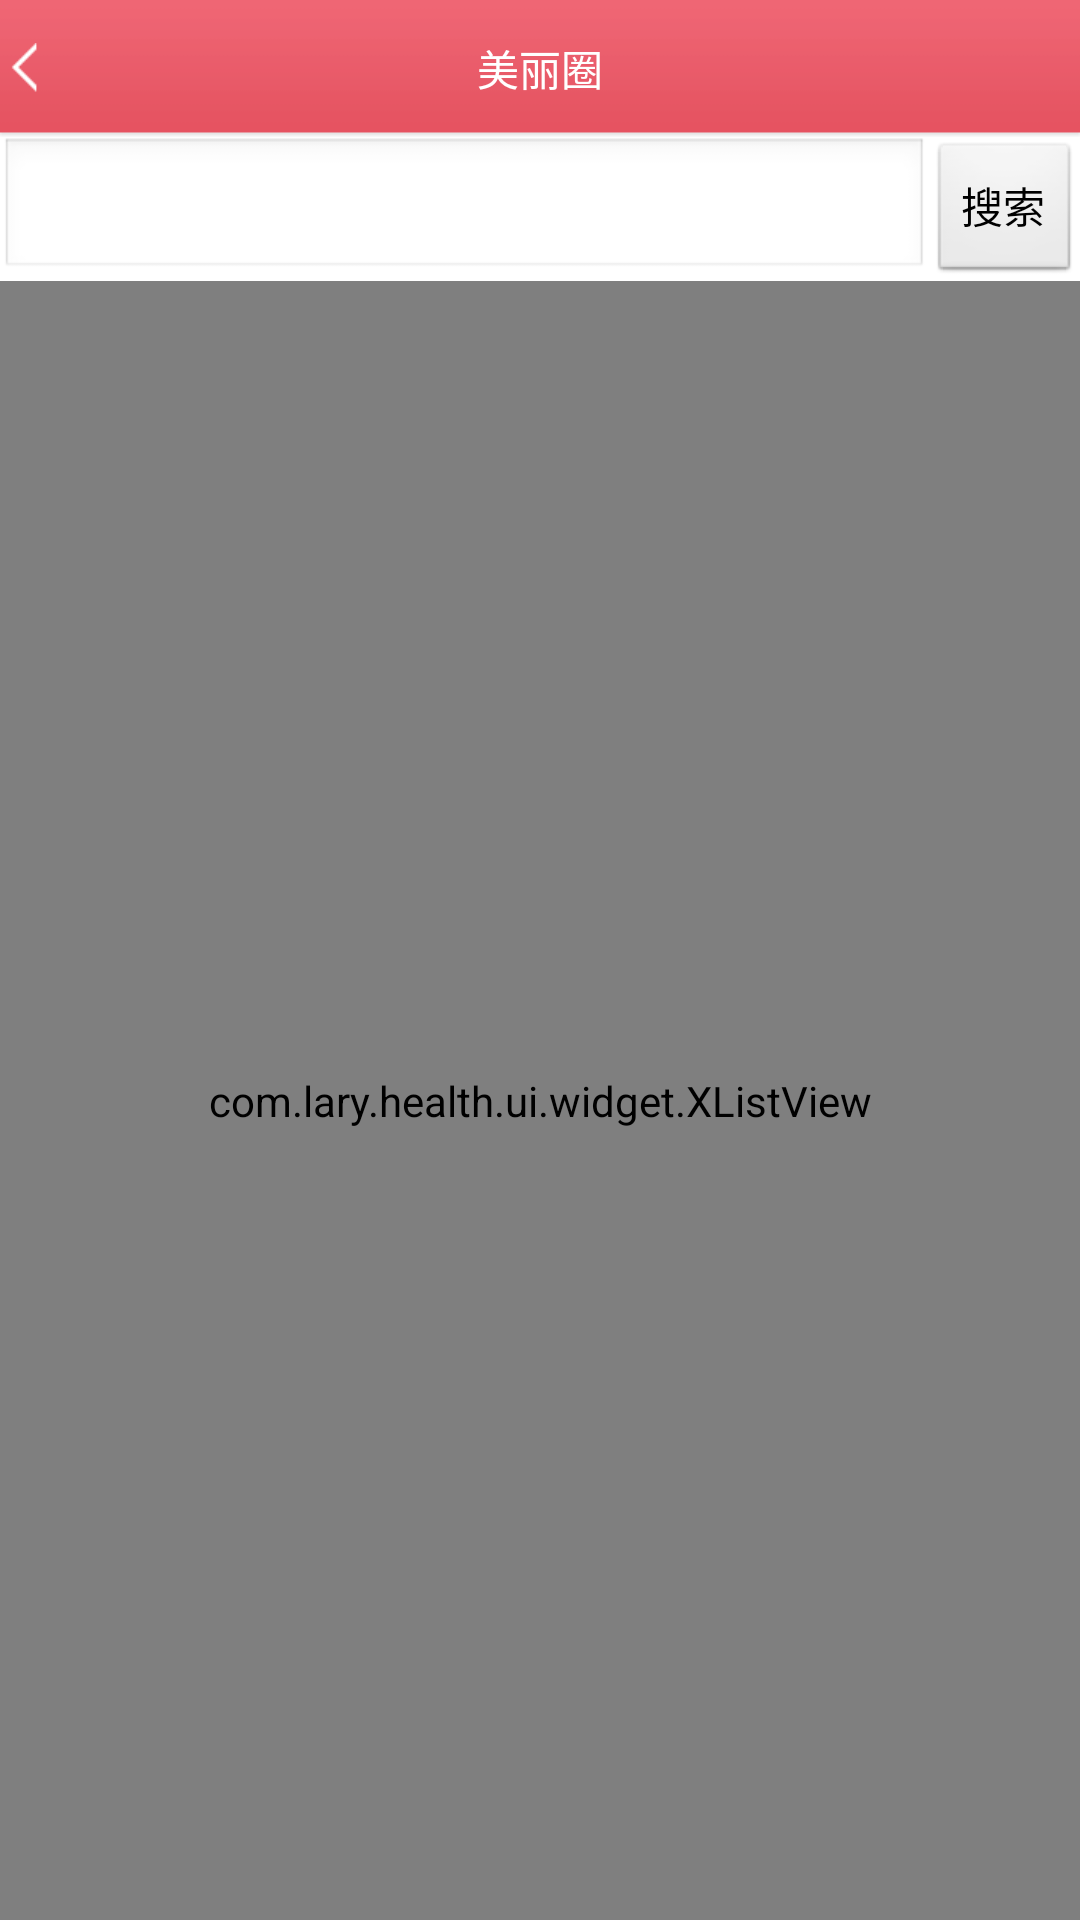

Named icons in this screenshot (1080 x 1920) and their centers, (x,y):
back: (24,67)
